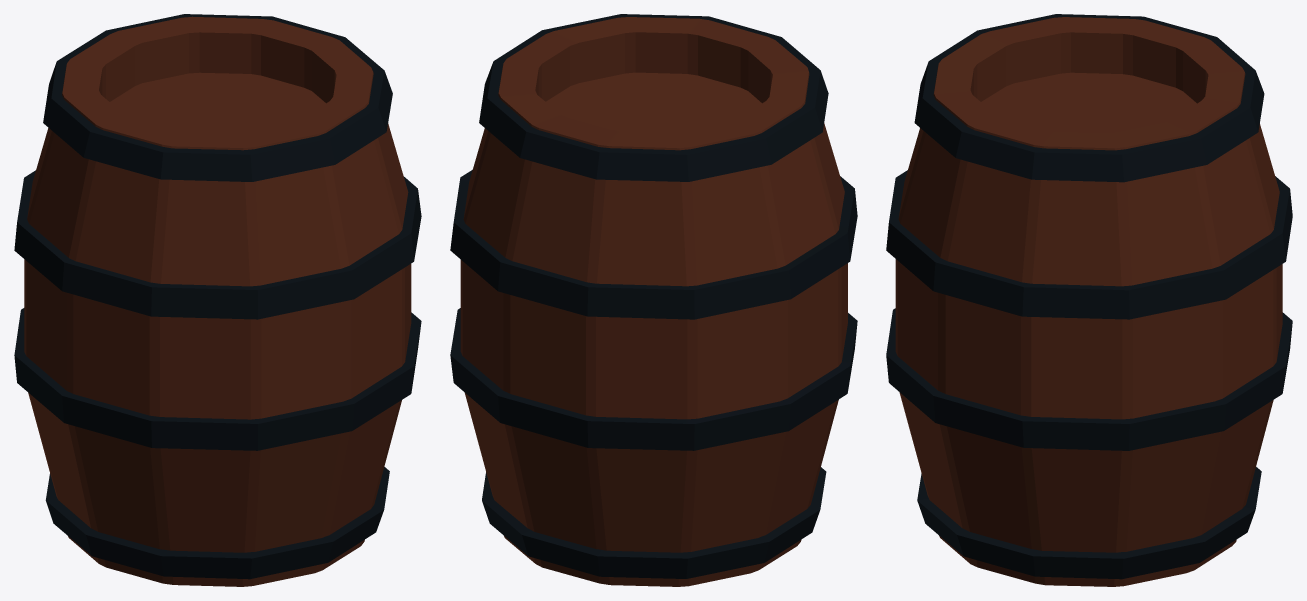
Rendered from Barrel_1.fbx.
The picture shows the model from 3 angles, left to right: view 1: azimuth 30°, elevation 25°; view 2: azimuth 150°, elevation 25°; view 3: azimuth 270°, elevation 25°; orthographic projection.
Visible parts, largest first — view 1: Barrel_1; view 2: Barrel_1; view 3: Barrel_1.
Part boxes in pixels (x1,y1,x2,y2): Barrel_1: (14, 14, 421, 586); Barrel_1: (450, 14, 857, 586); Barrel_1: (886, 14, 1292, 586).
Size of the model in its own units: 21.78 by 26.05 by 21.78.
